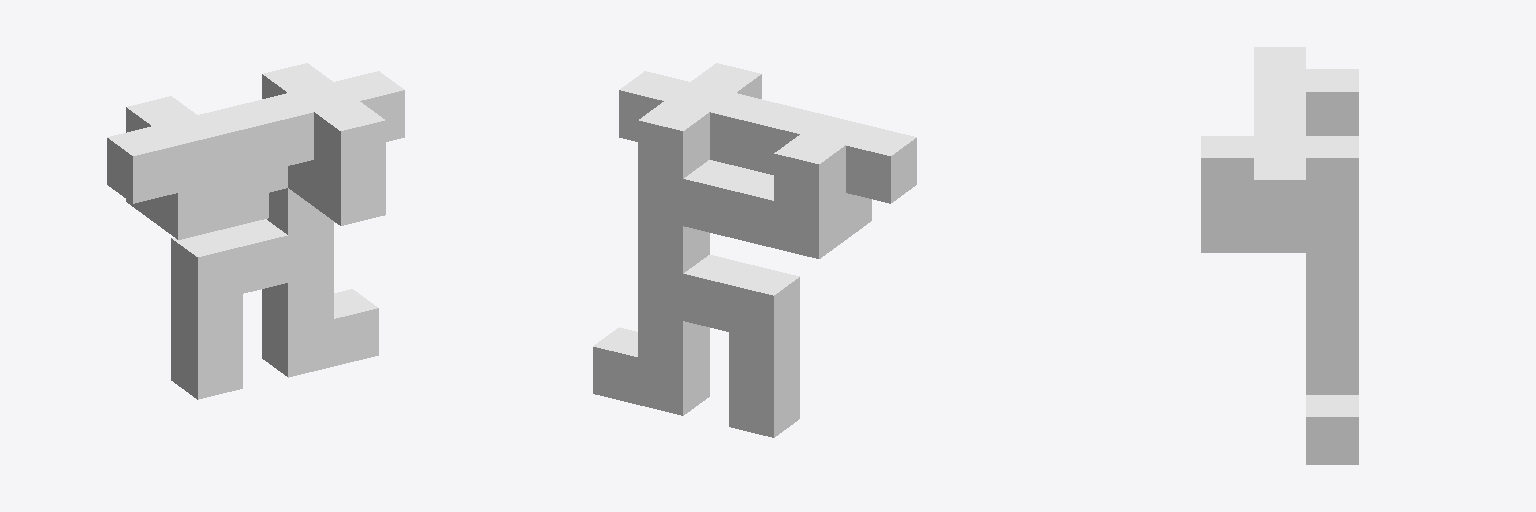
Rendered from GermanPanzerShreck.obj.
3 views of the same model, side by side, from view 1: azimuth 30°, elevation 25°; view 2: azimuth 150°, elevation 25°; view 3: azimuth 270°, elevation 25° (orthographic).
Bounding box in the file's own units: 6 × 6 × 3.